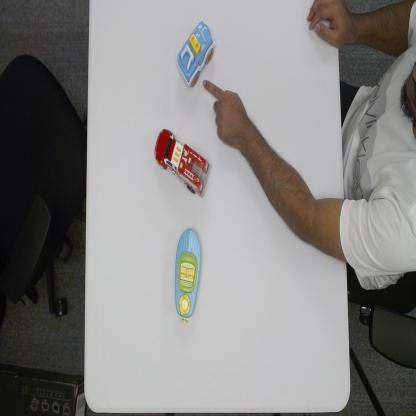Arm: (241, 132, 344, 263)
Boat: (174, 226, 202, 326)
Car: (176, 17, 216, 91)
Firetruck: (154, 126, 211, 202)
Hand: (201, 75, 247, 154), (306, 0, 340, 50)
